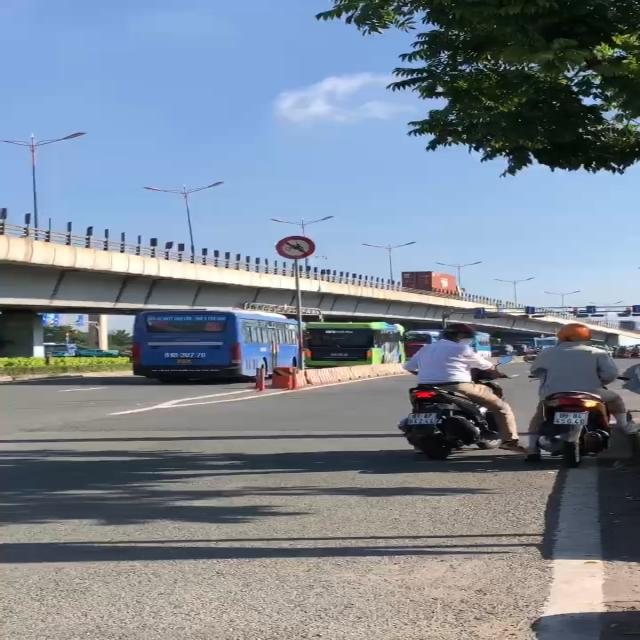Bien bao cam xe may: (272, 228, 326, 262)
